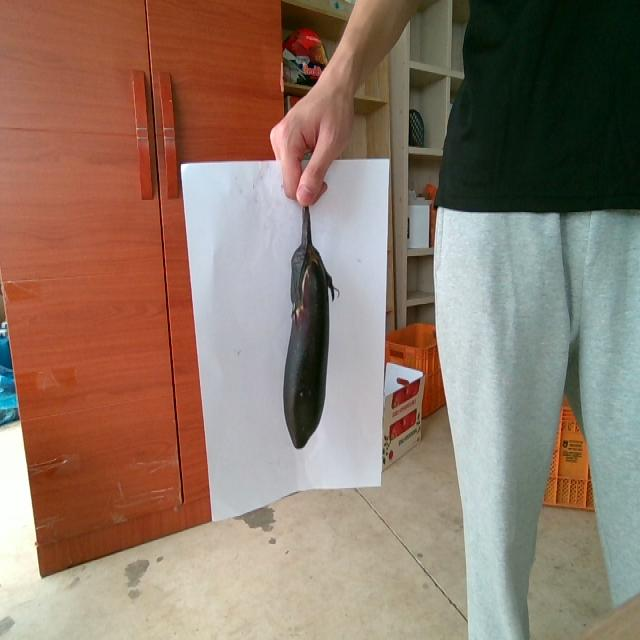Egg plant: (283, 207, 335, 448)
